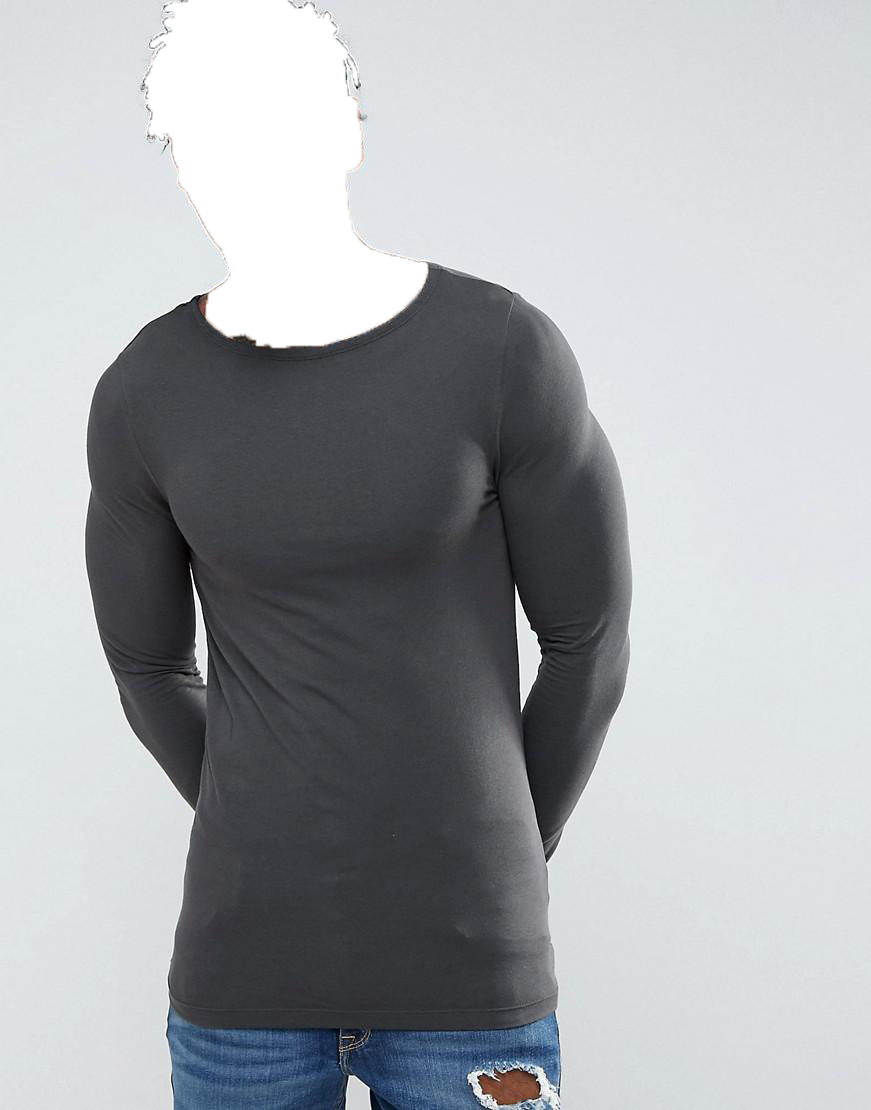teeshirt: (76, 269, 646, 1035)
